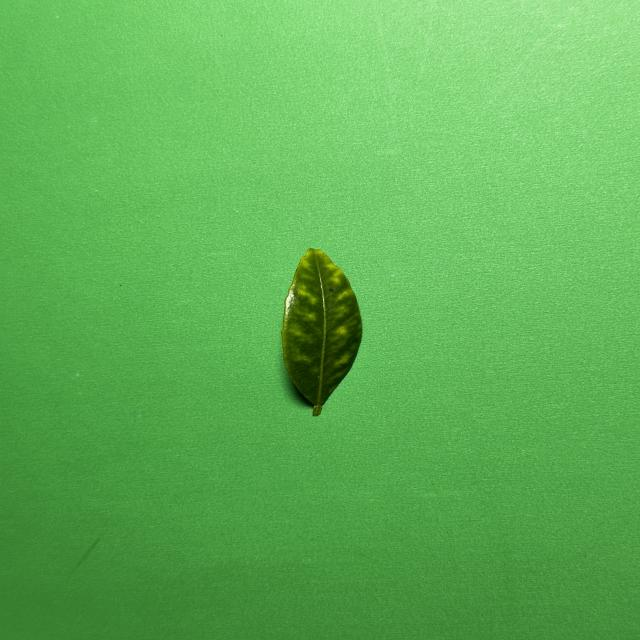greening: (281, 249, 362, 416)
